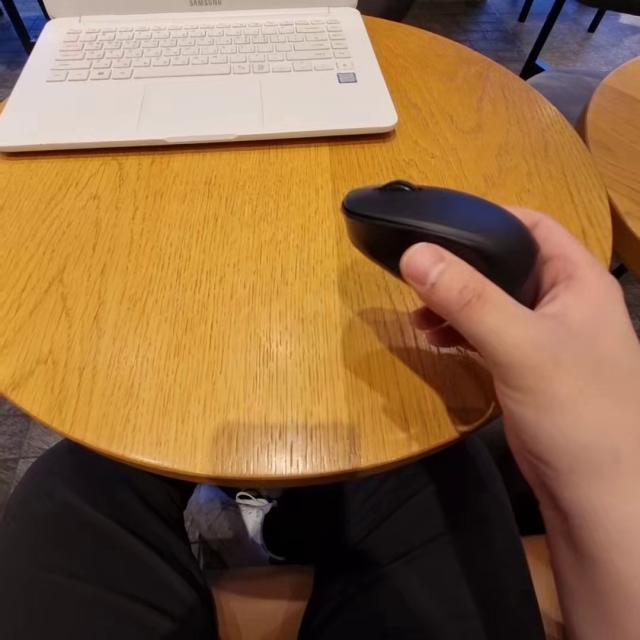grab_mouse: (329, 165, 640, 468)
mouse: (317, 160, 546, 299)
